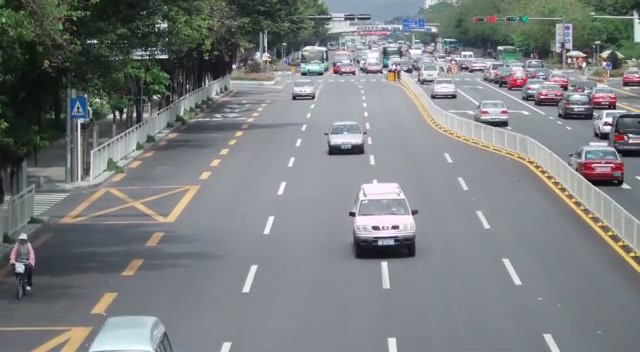car: (348, 182, 419, 258), (79, 315, 174, 352), (568, 144, 625, 186), (609, 113, 640, 156), (326, 121, 365, 155), (592, 109, 627, 139), (557, 92, 594, 120), (475, 100, 509, 126), (590, 86, 618, 109), (534, 85, 564, 106), (430, 78, 457, 99), (291, 79, 316, 100), (521, 80, 545, 100), (507, 70, 528, 90), (332, 61, 357, 75), (622, 69, 640, 86)
pedestrian: (9, 234, 36, 295)
truck: (300, 46, 329, 76), (415, 59, 439, 84), (360, 50, 383, 74)
